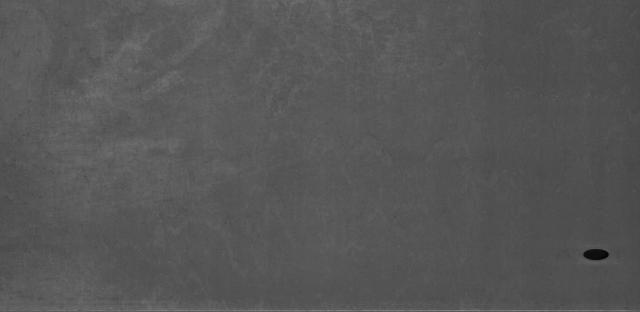punching_hole: (576, 245, 612, 263)
